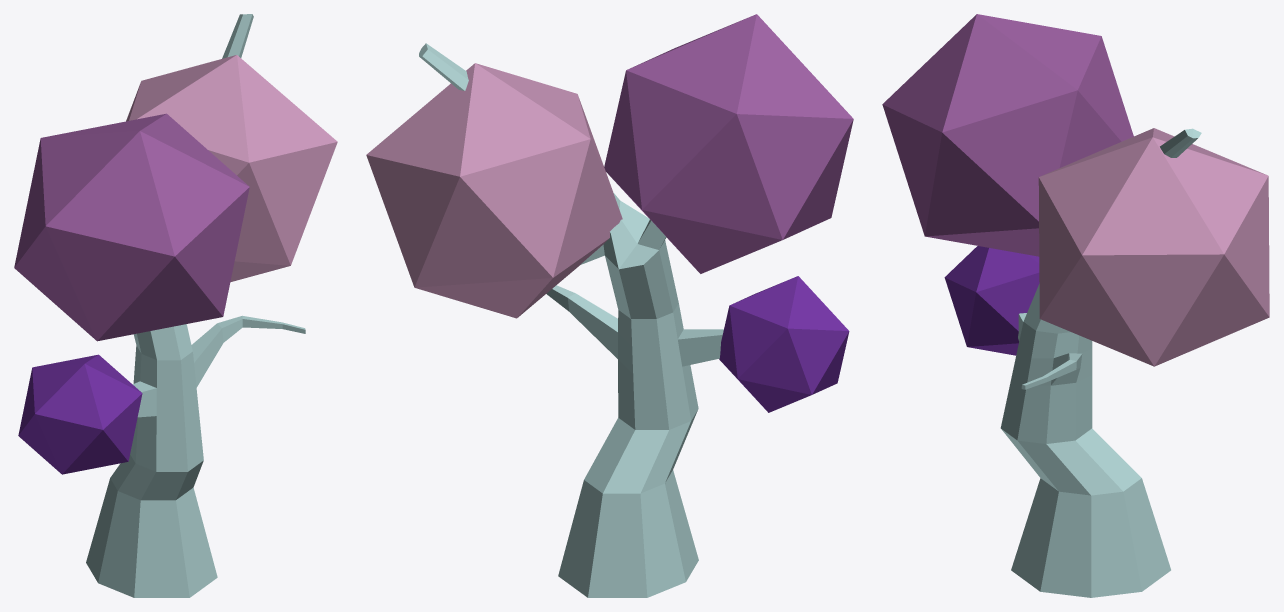
File: 01_05Tree_Purple.fbx
The picture shows the model from 3 angles, left to right: view 1: azimuth 30°, elevation 25°; view 2: azimuth 150°, elevation 25°; view 3: azimuth 270°, elevation 25°; orthographic projection. The views are drawn at different scales.
Parts seen in each view (by area): view 1: Cube.014; view 2: Cube.014; view 3: Cube.014.
Part boxes in pixels (bbox=[...]): Cube.014: bbox=[14, 14, 337, 597]; Cube.014: bbox=[366, 14, 853, 597]; Cube.014: bbox=[882, 14, 1269, 597].
Size of the model in its own units: 184 by 253 by 170.
